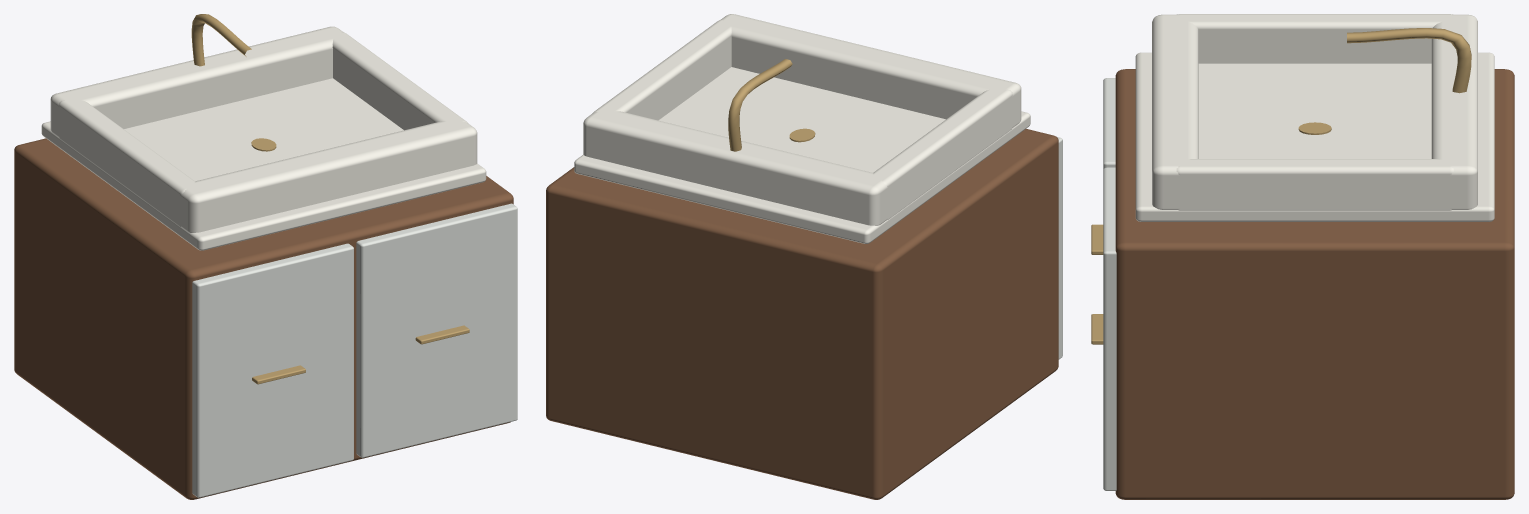
The model's file is sink-7-0.glb.
3 views of the same model, side by side, from view 1: azimuth 30°, elevation 25°; view 2: azimuth 150°, elevation 25°; view 3: azimuth 270°, elevation 25° (orthographic). The views are drawn at different scales.
Parts seen in each view (by area): view 1: upholstery (×4); view 2: upholstery (×4); view 3: upholstery (×4).
Boxes of the visible parts, x1=… form: upholstery (×4): x1=14, y1=14, x2=517, y2=499; upholstery (×4): x1=546, y1=14, x2=1062, y2=499; upholstery (×4): x1=1091, y1=14, x2=1514, y2=499.
Bounding box in the file's own units: 1 × 1 × 1.
